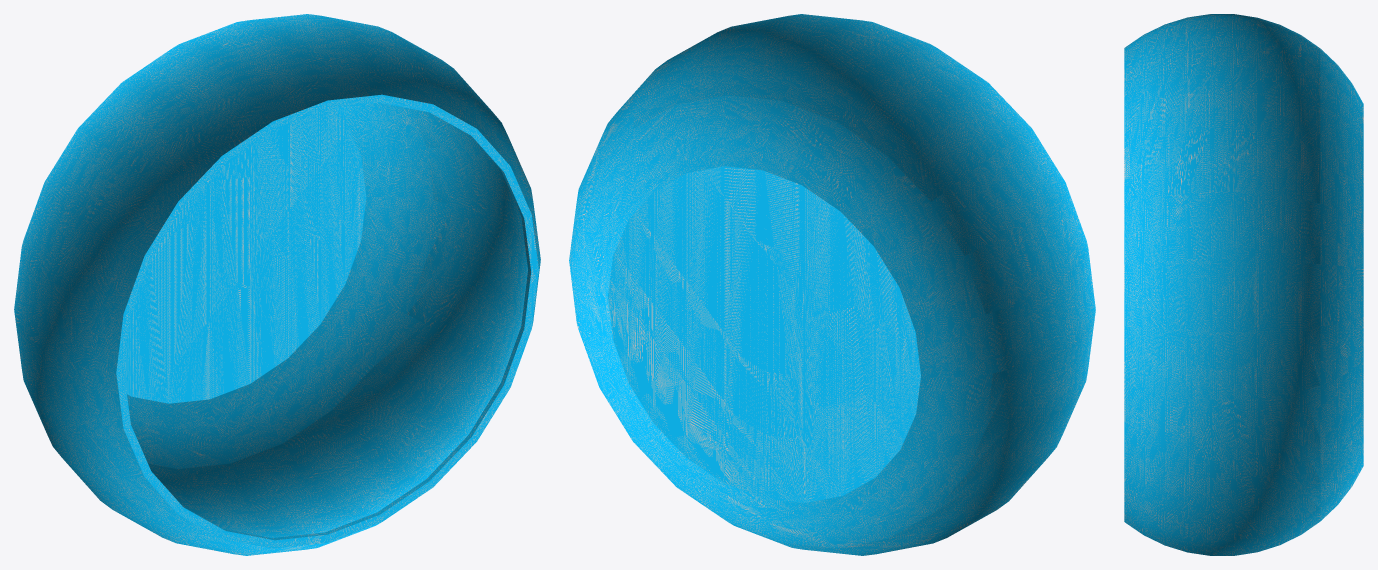
Rendered from model_scale.obj.
The picture shows the model from 3 angles, left to right: view 1: azimuth 30°, elevation 25°; view 2: azimuth 150°, elevation 25°; view 3: azimuth 270°, elevation 25°; orthographic projection. The views are drawn at different scales.
Parts seen in each view (by area): view 1: mesh1_mesh1-geometry; view 2: mesh1_mesh1-geometry; view 3: mesh1_mesh1-geometry.
Boxes of the visible parts, left/top/right/bottom form: mesh1_mesh1-geometry: left=14, top=14, right=540, bottom=555; mesh1_mesh1-geometry: left=569, top=14, right=1095, bottom=555; mesh1_mesh1-geometry: left=1124, top=14, right=1363, bottom=555.
Bounding box in the file's own units: 0.1495 × 0.1495 × 0.0657.
